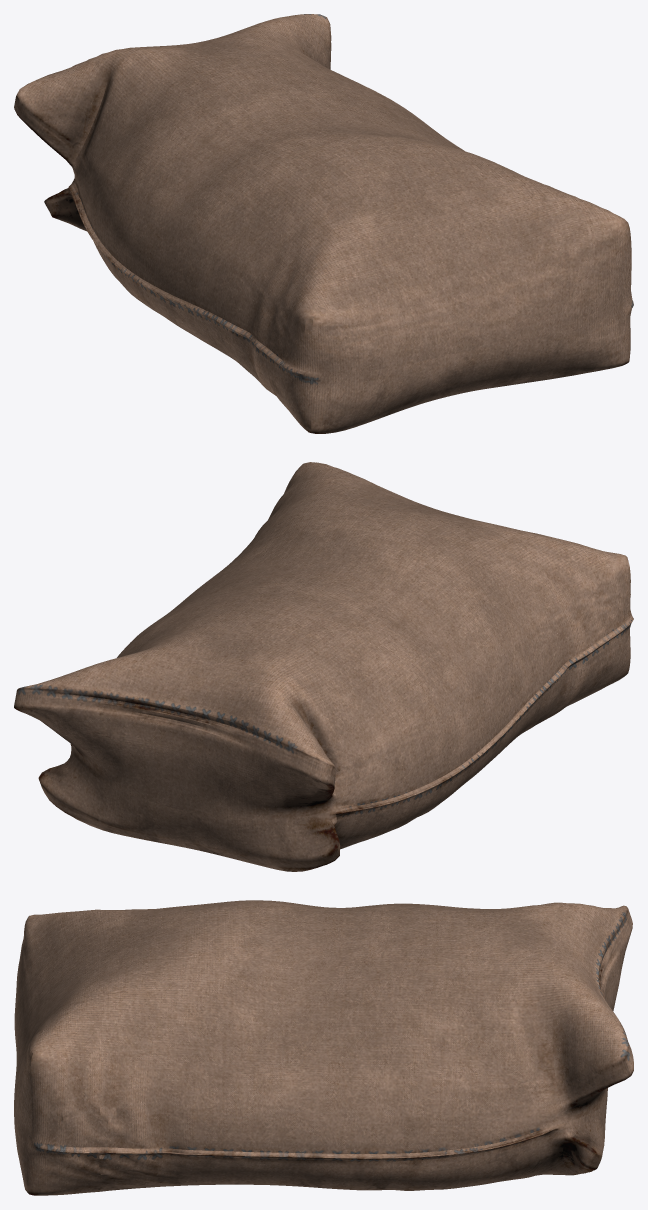
Rendered from sandbag.glb.
3 views of the same model, one above another, from view 1: azimuth 30°, elevation 25°; view 2: azimuth 150°, elevation 25°; view 3: azimuth 270°, elevation 25° (orthographic).
Visible parts, largest first — view 1: Sandbag; view 2: Sandbag; view 3: Sandbag.
Part boxes in pixels (x1,y1,x2,y2): Sandbag: (14, 14, 633, 433); Sandbag: (14, 462, 633, 871); Sandbag: (14, 900, 633, 1195).
Size of the model in its own units: 0.329 by 0.1896 by 0.5013.
Materials: 1 (1 with a texture image).
